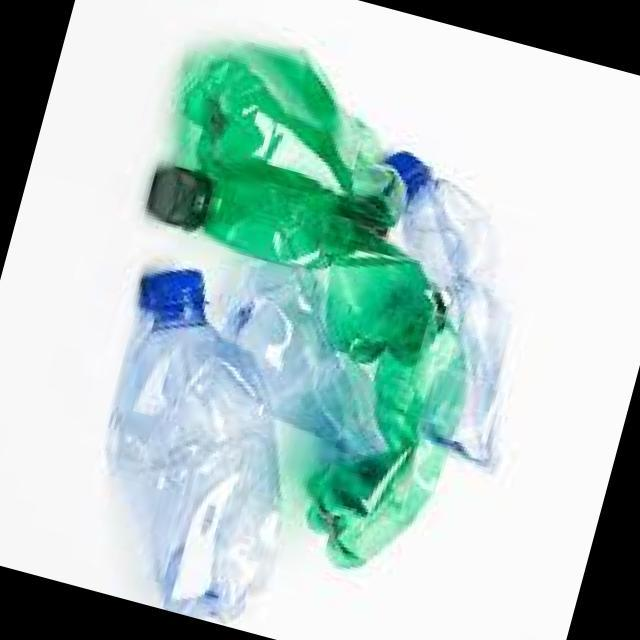defected: (0, 260, 317, 628), (391, 140, 596, 477), (103, 39, 408, 261), (269, 244, 468, 579)
